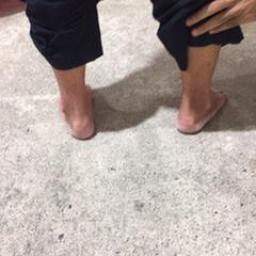Back View -Both Feet-: (47, 72, 235, 152)
